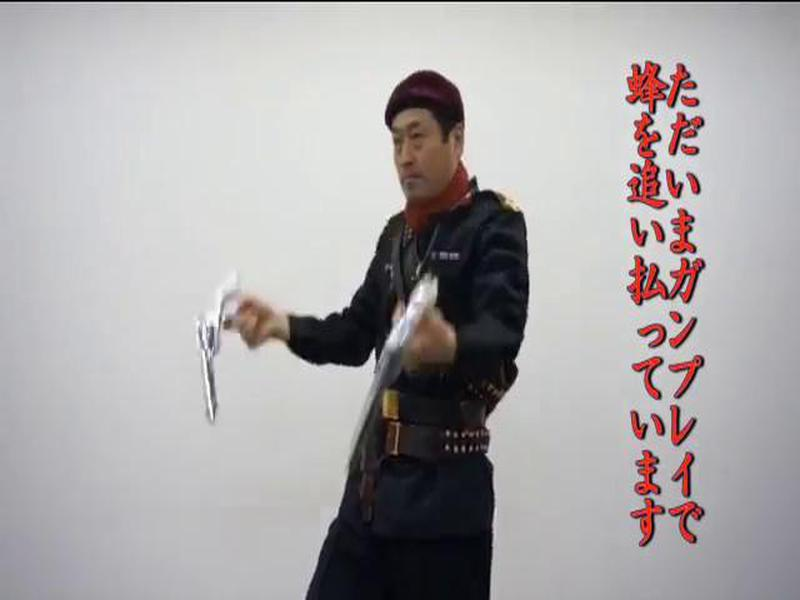Revolver: (345, 272, 447, 462), (185, 244, 248, 433)
